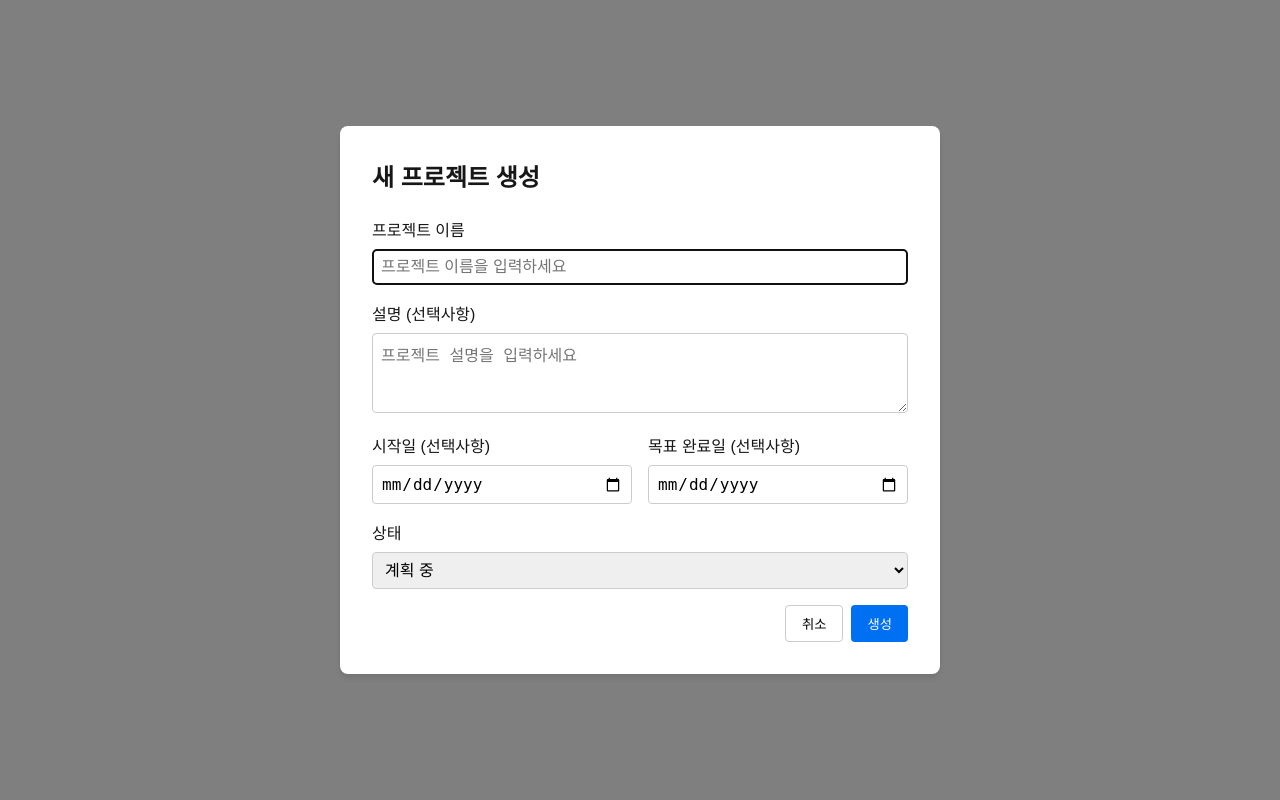
Test: CreateProjectModal › should show error message on API failure
In the field labelled "프로젝트 이름": (640, 267) [372,249,908,285], type "New Project"
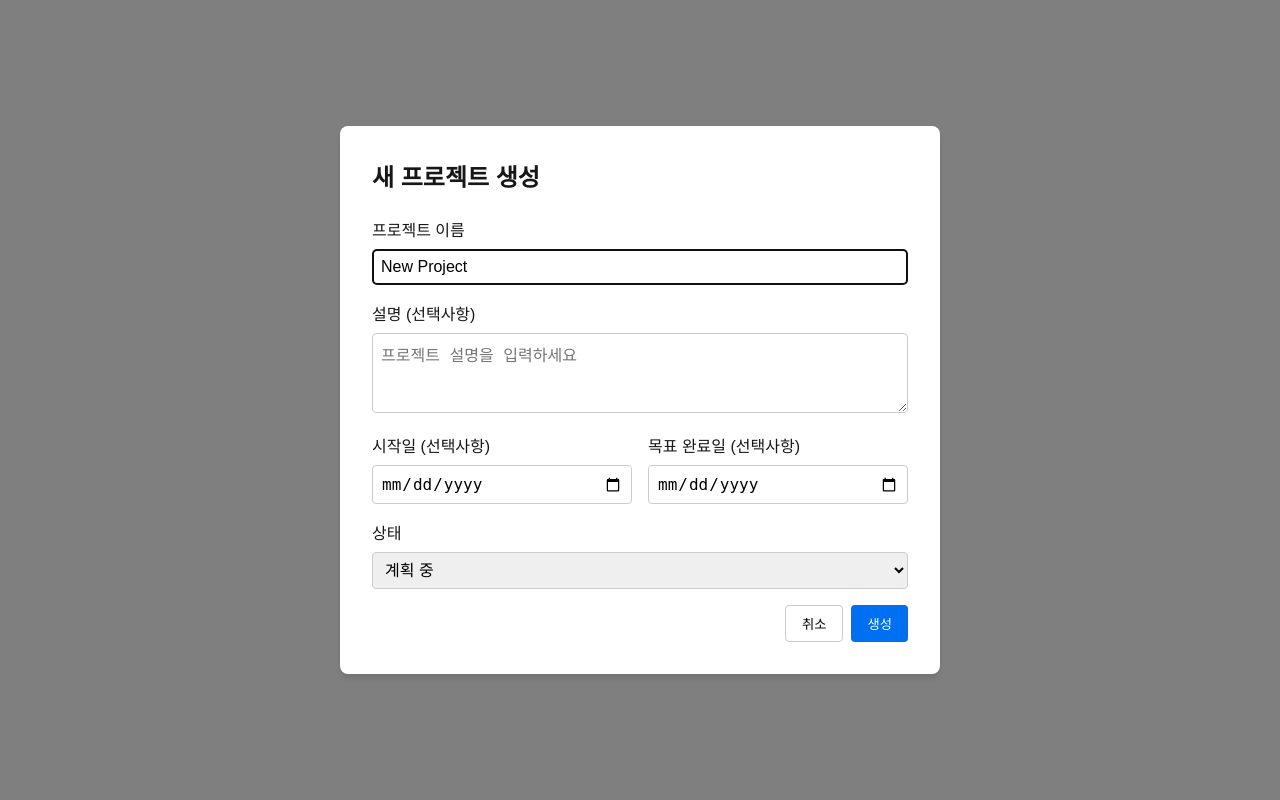
Click the button "생성": (880, 624) [852,605,908,642]
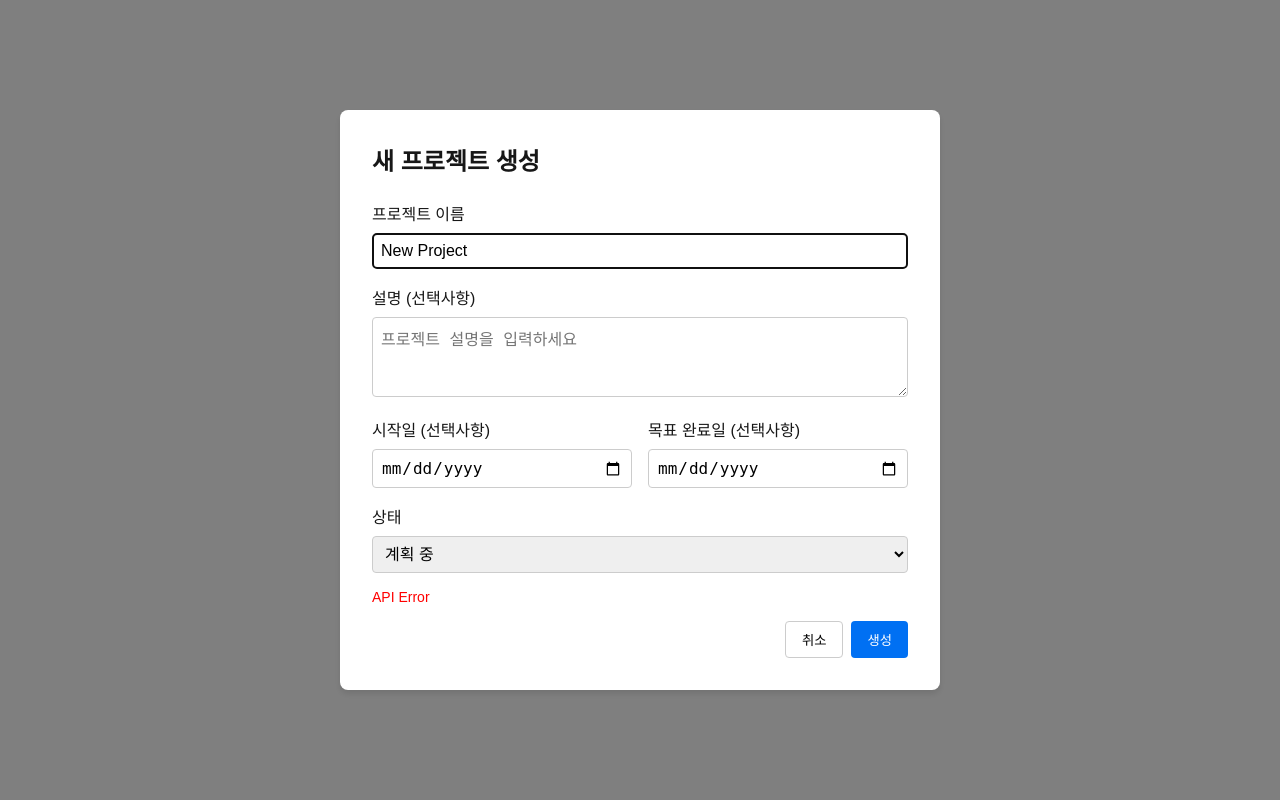
expect the text "API Error" is shown: met, box [372,589,430,605]
